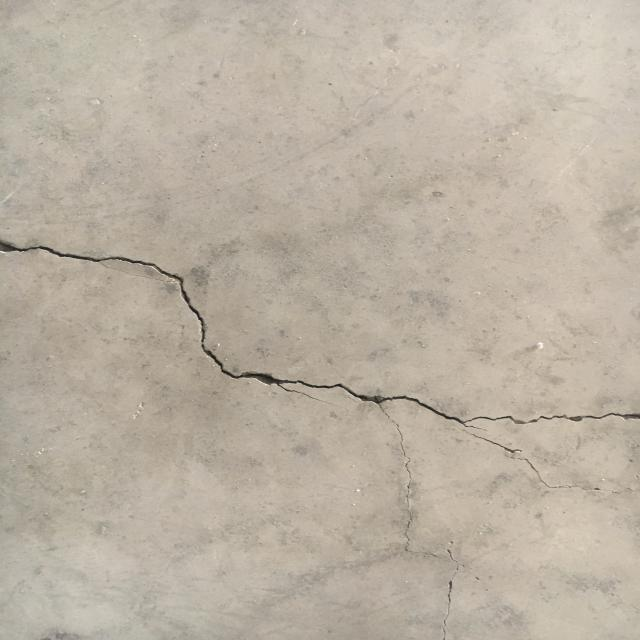SurfaceCrack: (0, 200, 639, 486)
